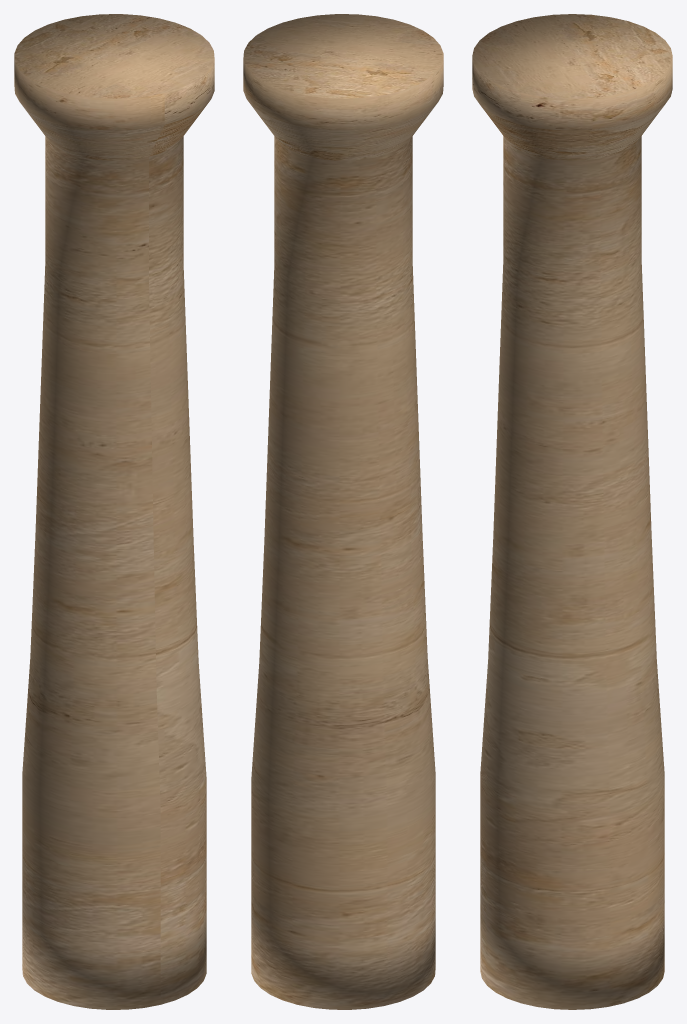
The model's file is column.glb.
The picture shows the model from 3 angles, left to right: view 1: azimuth 30°, elevation 25°; view 2: azimuth 150°, elevation 25°; view 3: azimuth 270°, elevation 25°; orthographic projection.
Parts seen in each view (by area): view 1: LOD0; view 2: LOD0; view 3: LOD0.
Boxes of the visible parts, box(x1,y1,x2,y2) form: LOD0: box(14, 14, 214, 1009); LOD0: box(243, 14, 443, 1009); LOD0: box(472, 14, 672, 1009).
Size of what is drawn, in the model's own units: 1.19 by 5.97 by 1.19.
Materials: 1 (1 with a texture image).
